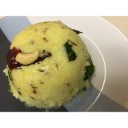venpongal: (9, 23, 90, 99)
